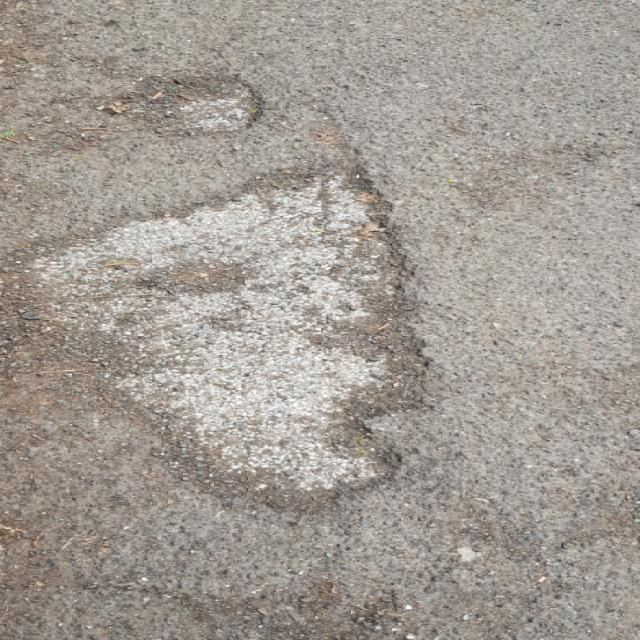pothole: (0, 146, 447, 514), (106, 70, 265, 140)
